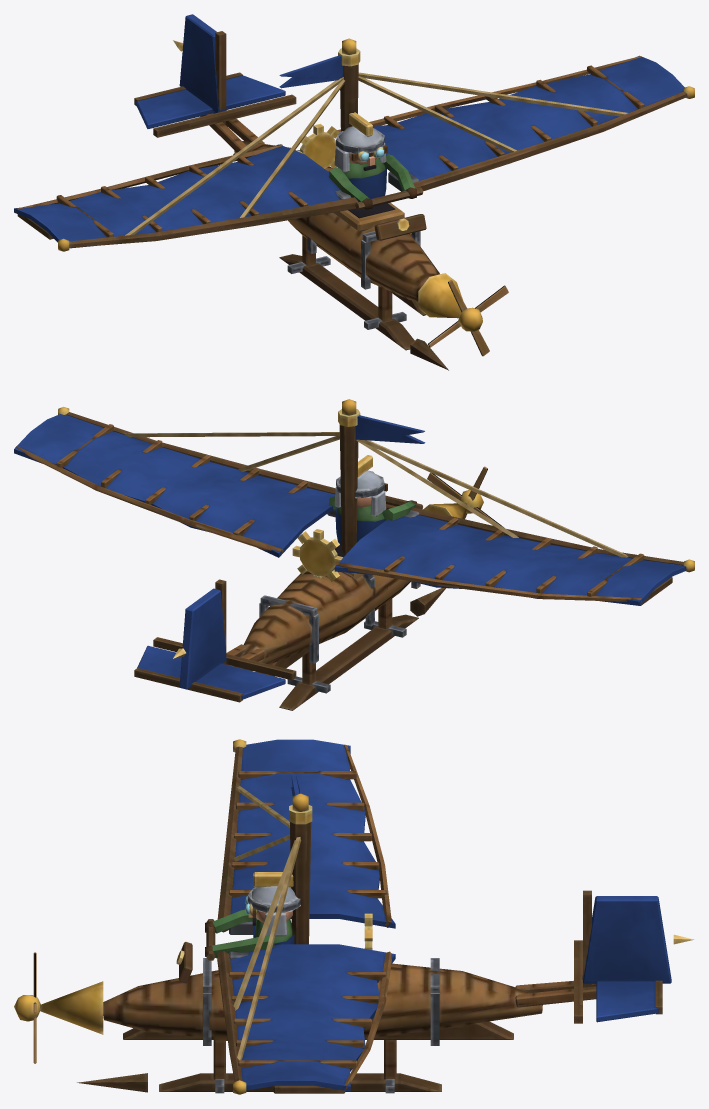
File: glider.glb
The picture shows the model from 3 angles, top to bottom: view 1: azimuth 30°, elevation 25°; view 2: azimuth 150°, elevation 25°; view 3: azimuth 270°, elevation 25°; orthographic projection. The views are drawn at different scales.
Visible parts, largest first — view 1: Torso, WingR, WingL, Head; view 2: Torso, WingR, WingL, Head; view 3: Torso, WingR, WingL, Head.
Part boxes in pixels (<box>): Torso: <box>134,14,508,370</box>; WingR: <box>337,55,694,191</box>; WingL: <box>14,77,358,251</box>; Head: <box>334,112,387,172</box>; Torso: <box>134,399,503,710</box>; WingR: <box>14,406,339,557</box>; WingL: <box>334,439,694,605</box>; Head: <box>334,455,387,516</box>; Torso: <box>14,773,694,1093</box>; WingR: <box>217,837,395,1094</box>; WingL: <box>217,739,395,934</box>; Head: <box>245,872,300,936</box>.
Bounding box in the file's own units: 4.58 × 1.84 × 3.8.
Materials: 2 (2 with a texture image).
